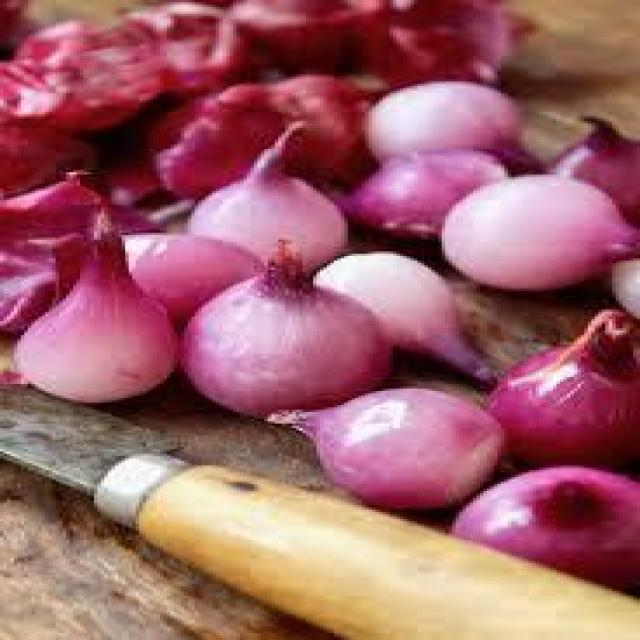Onion: (322, 85, 635, 257), (2, 164, 190, 411), (3, 0, 264, 144), (170, 271, 400, 423), (441, 458, 640, 602), (304, 386, 516, 519), (278, 0, 639, 74), (483, 307, 640, 477), (294, 253, 492, 385), (435, 175, 640, 293), (167, 72, 369, 191), (209, 0, 424, 61)
